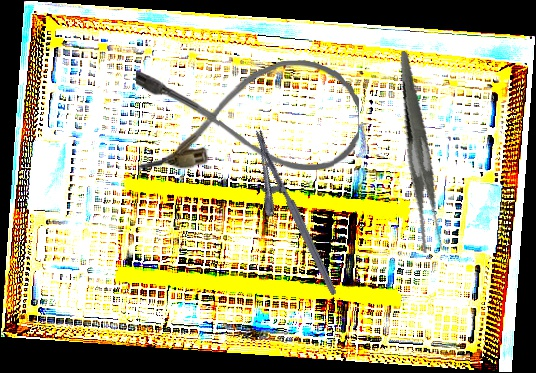Cannula: (136, 59, 360, 173)
Dressing Forceps: (367, 50, 476, 257)
Needle Holder: (232, 127, 338, 307)
